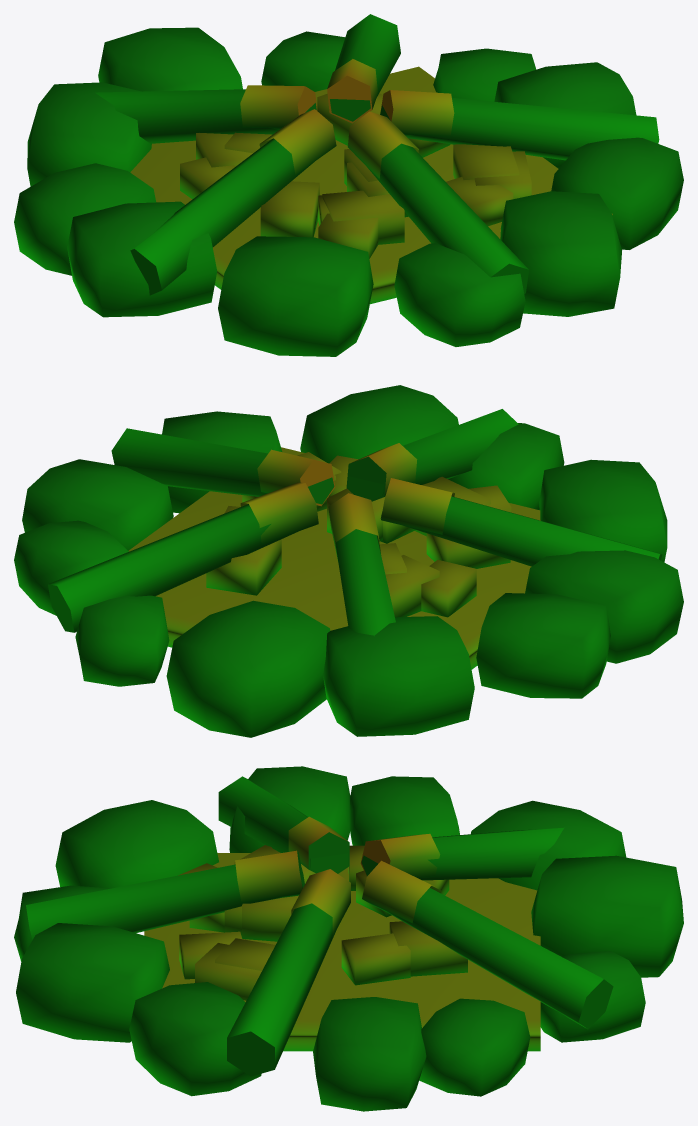
Rendered from ridge_fire.glb.
3 views of the same model, one above another, from view 1: azimuth 30°, elevation 25°; view 2: azimuth 150°, elevation 25°; view 3: azimuth 270°, elevation 25° (orthographic).
Visible parts, largest first — view 1: ridge_fire; view 2: ridge_fire; view 3: ridge_fire.
Part boxes in pixels (left/top/right/bottom): ridge_fire: left=14, top=14, right=683, bottom=356; ridge_fire: left=14, top=385, right=683, bottom=737; ridge_fire: left=14, top=766, right=683, bottom=1111.
Size of what is drawn, in the model's own units: 0.6474 by 0.1449 by 0.648.
